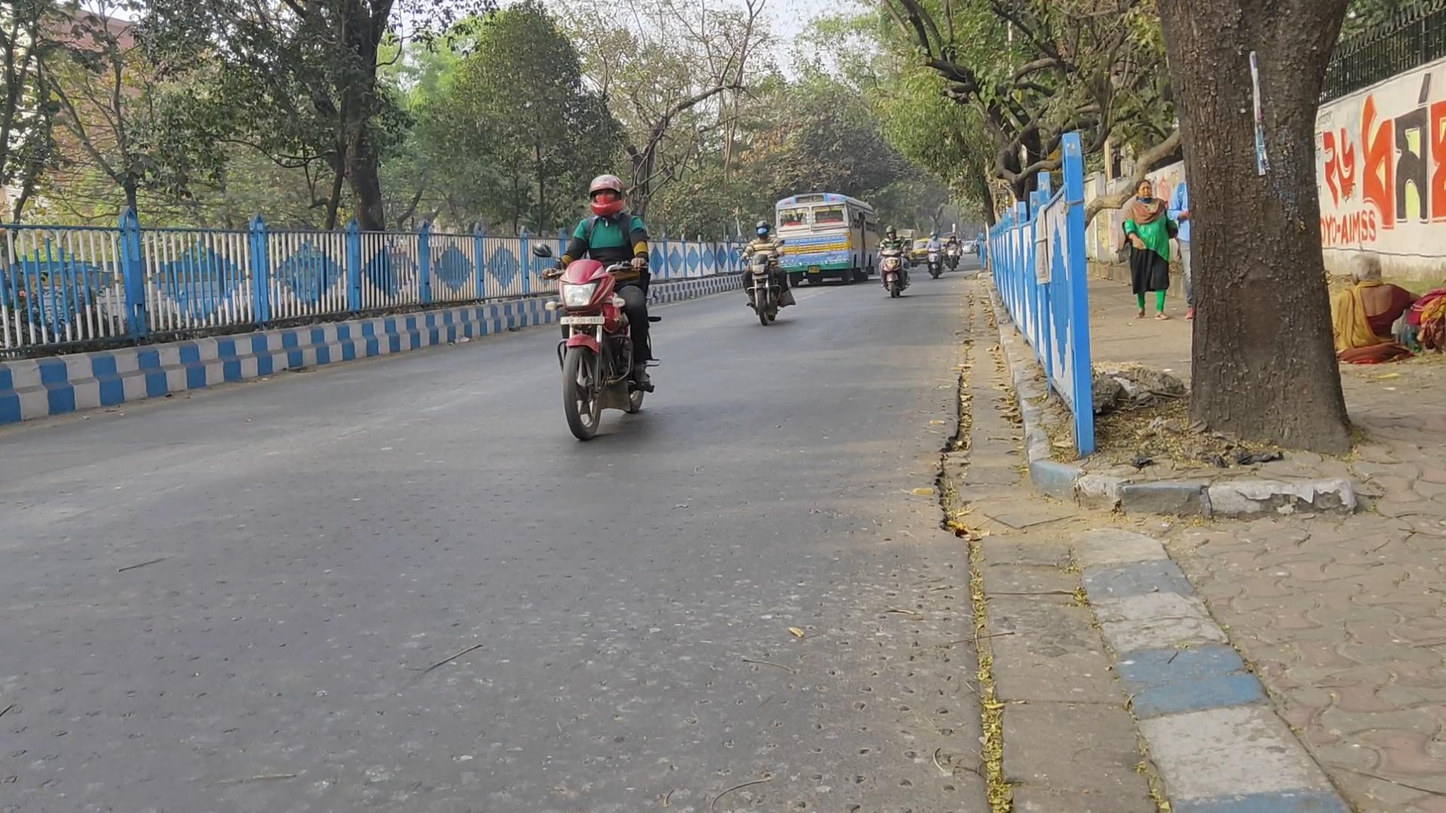Bus: (775, 193, 882, 286)
bike: (535, 174, 662, 440), (739, 219, 796, 325), (874, 224, 911, 300), (925, 230, 947, 281), (943, 233, 963, 273)
